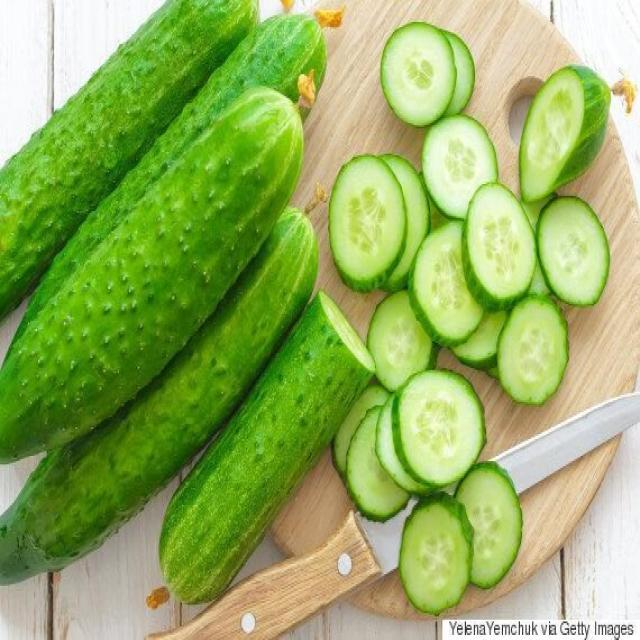cucumber: (0, 0, 378, 607)
